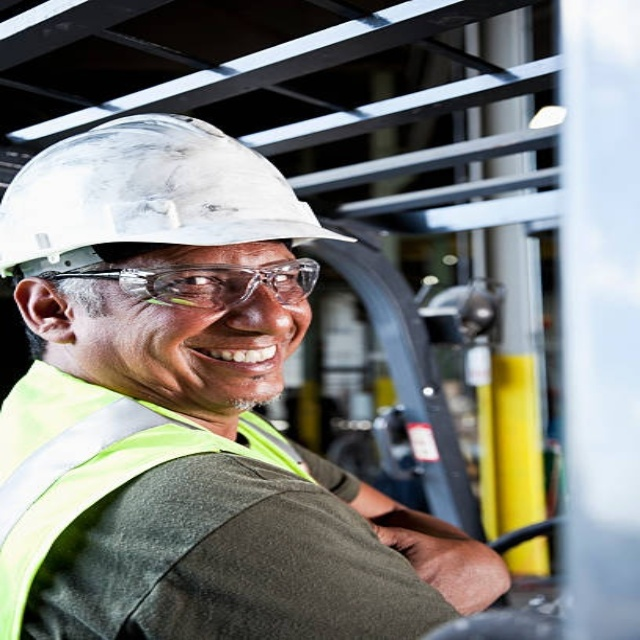Gafas: (49, 258, 326, 308)
Sin_mascara: (162, 332, 303, 403)
